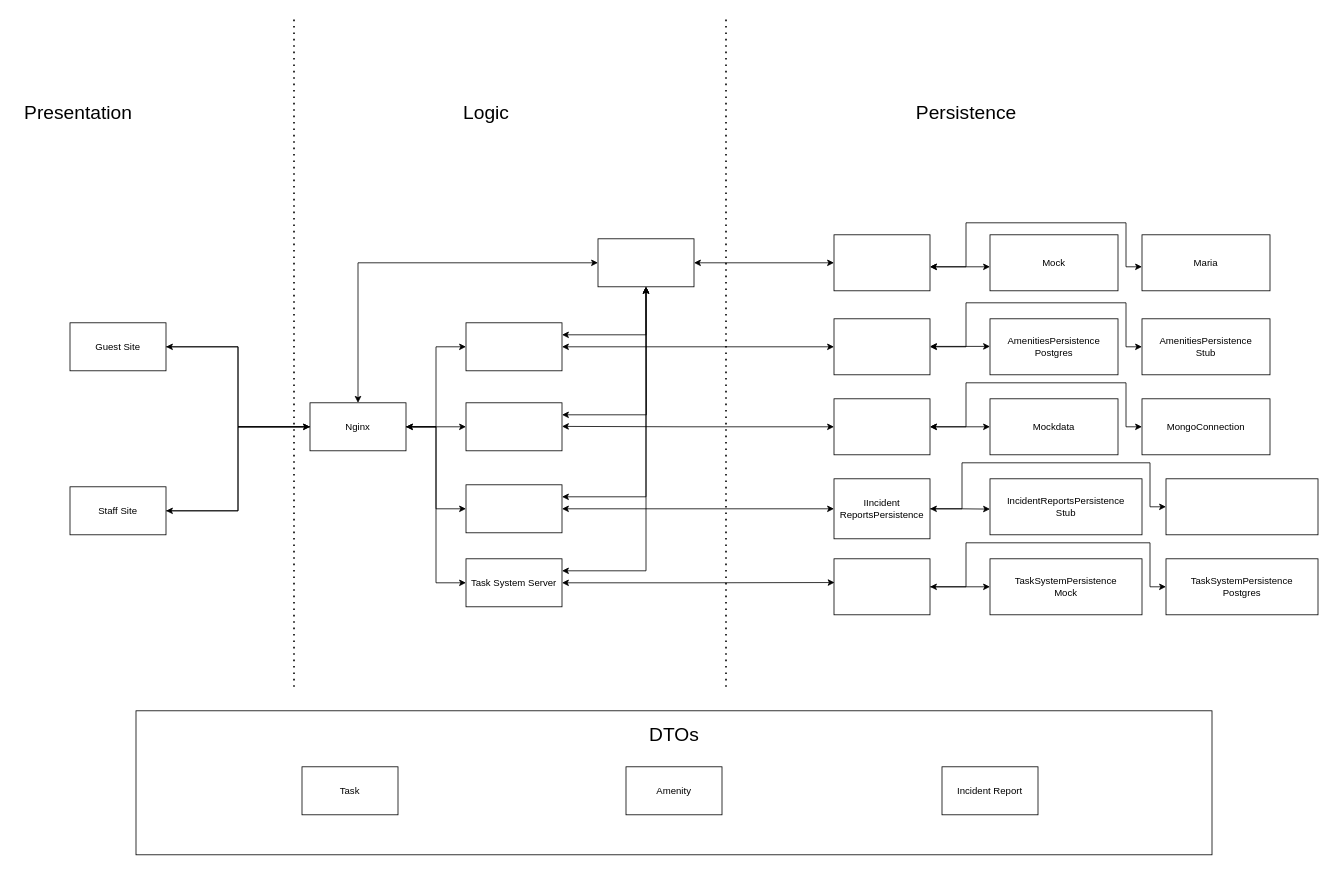
Some shapes in this 1332 by 869 pixel diagram are drawn without their labels. The shapes that lost their labels are listed below. From the top down, each one's box as (x1, y1, x2, y2) in pixels, then its label:
(597, 238, 694, 287): Permissions
(833, 234, 930, 291): Interface
(465, 322, 562, 371): Amenities Server
(833, 318, 930, 375): IAmenitiesPersistence
(465, 402, 562, 451): Accounts Server
(833, 398, 930, 455): DatabaseInterface
(465, 484, 562, 533): Incident Reports Server
(1165, 478, 1318, 535): IncidentReportsPersistence Mongo
(833, 558, 930, 615): ITaskSystem Persistence
